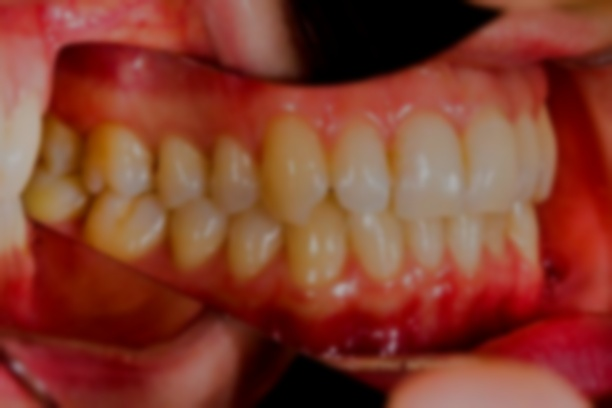Gingivitis: (294, 283, 474, 354)
